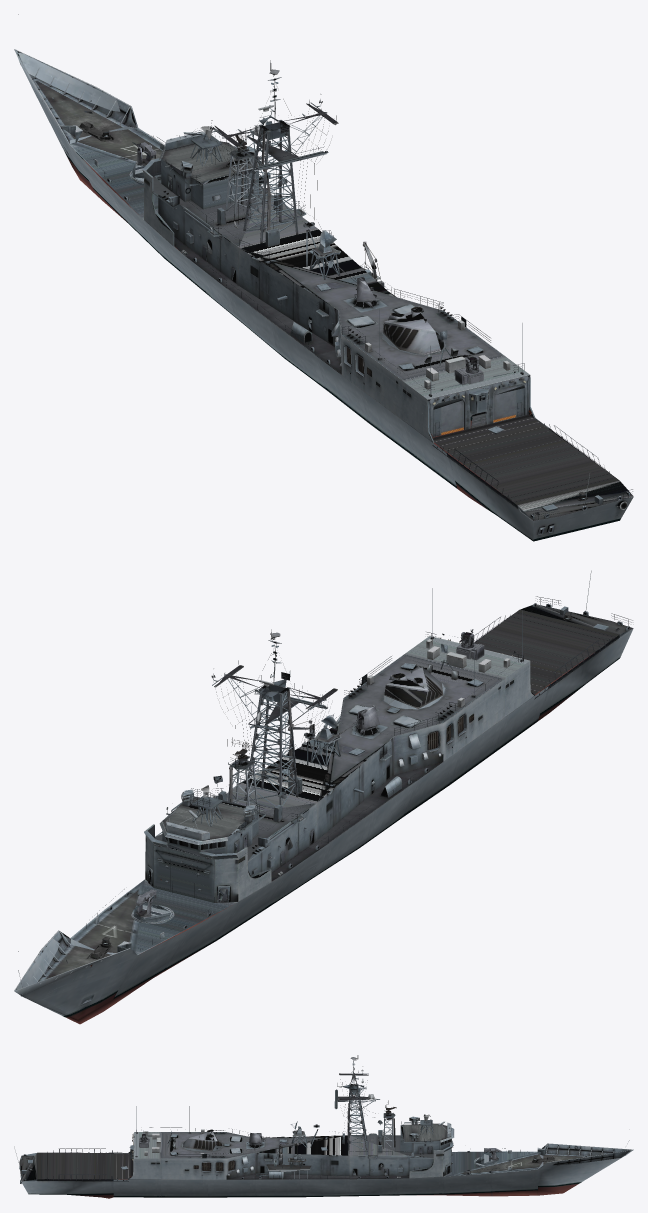
The model's file is lod1_perry.glb.
The picture shows the model from 3 angles, top to bottom: view 1: azimuth 30°, elevation 25°; view 2: azimuth 150°, elevation 25°; view 3: azimuth 270°, elevation 25°; orthographic projection. The views are drawn at different scales.
Visible parts, largest first — view 1: Object_10, Object_9, Object_4, Object_5, Object_6, Object_7, Object_3, Object_8; view 2: Object_4, Object_10, Object_9, Object_6, Object_7, Object_5, Object_3, Object_8; view 3: Object_4, Object_9, Object_10, Object_5, Object_6, Object_7, Object_3, Object_8.
Part boxes in pixels (x1=…): Object_10: x1=152, y1=126, x2=529, y2=399; Object_9: x1=158, y1=75, x2=603, y2=534; Object_4: x1=15, y1=52, x2=633, y2=541; Object_5: x1=174, y1=60, x2=633, y2=534; Object_6: x1=14, y1=14, x2=629, y2=518; Object_7: x1=142, y1=136, x2=524, y2=433; Object_3: x1=93, y1=86, x2=632, y2=520; Object_8: x1=132, y1=142, x2=483, y2=385; Object_4: x1=14, y1=618, x2=632, y2=1024; Object_10: x1=155, y1=636, x2=529, y2=860; Object_9: x1=211, y1=588, x2=619, y2=874; Object_6: x1=14, y1=603, x2=629, y2=996; Object_7: x1=144, y1=637, x2=521, y2=902; Object_5: x1=213, y1=570, x2=633, y2=880; Object_3: x1=86, y1=596, x2=632, y2=950; Object_8: x1=133, y1=629, x2=484, y2=917; Object_4: x1=21, y1=1144, x2=633, y2=1198; Object_9: x1=21, y1=1060, x2=433, y2=1179; Object_10: x1=133, y1=1100, x2=439, y2=1164; Object_5: x1=14, y1=1055, x2=409, y2=1183; Object_6: x1=19, y1=1121, x2=633, y2=1180; Object_7: x1=121, y1=1116, x2=453, y2=1178; Object_3: x1=37, y1=1071, x2=527, y2=1181; Object_8: x1=139, y1=1130, x2=505, y2=1160.
Bounding box in the file's own units: 15.08 × 34.45 × 135.
Materials: 9 (9 with a texture image).
